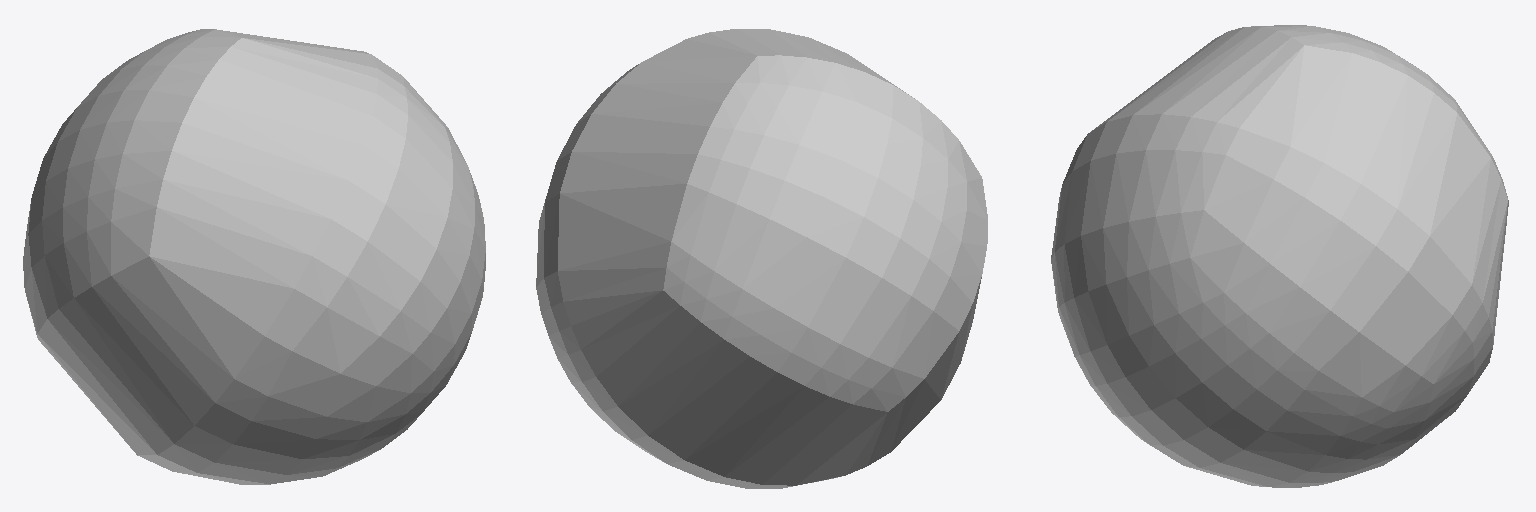
File: Body_mid.obj
The picture shows the model from 3 angles: view 1: azimuth 30°, elevation 25°; view 2: azimuth 150°, elevation 25°; view 3: azimuth 270°, elevation 25°; orthographic projection.
Visible parts, largest first — view 1: initialShadingGroup Box001; view 2: initialShadingGroup Box001; view 3: initialShadingGroup Box001.
Boxes of the visible parts, x1,y1,x2,y2 form: initialShadingGroup Box001: [23, 29, 485, 484]; initialShadingGroup Box001: [536, 29, 987, 488]; initialShadingGroup Box001: [1051, 25, 1508, 487].
Size of the model in its own units: 7.64 by 7.61 by 7.53.